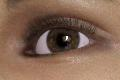eye: (47, 29, 79, 52)
